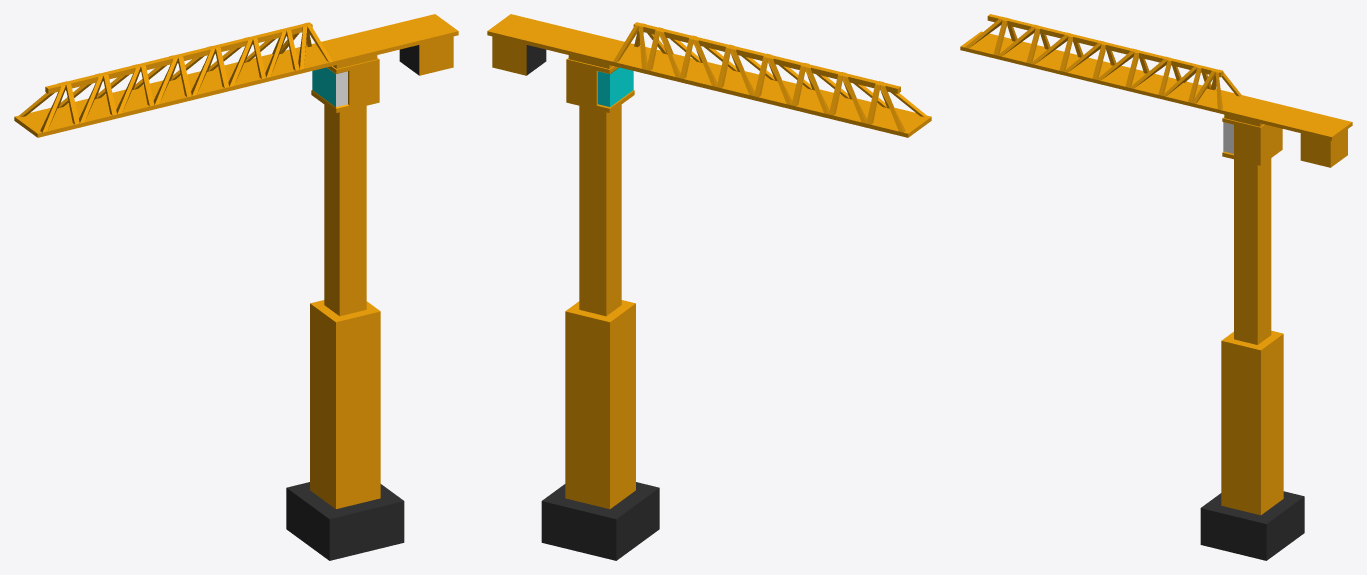
Rendered from CraneMesh.fbx.
3 renders of one model, left to right at view 1: azimuth 30°, elevation 25°; view 2: azimuth 150°, elevation 25°; view 3: azimuth 330°, elevation 25°, orthographic. The views are drawn at different scales.
Visible parts, largest first — view 1: pCube18; view 2: pCube18; view 3: pCube18.
Boxes of the visible parts, bbox=[...] form: pCube18: bbox=[14, 14, 458, 560]; pCube18: bbox=[487, 14, 931, 560]; pCube18: bbox=[960, 14, 1352, 560].
Bounding box in the file's own units: 4223 × 4995 × 750.
